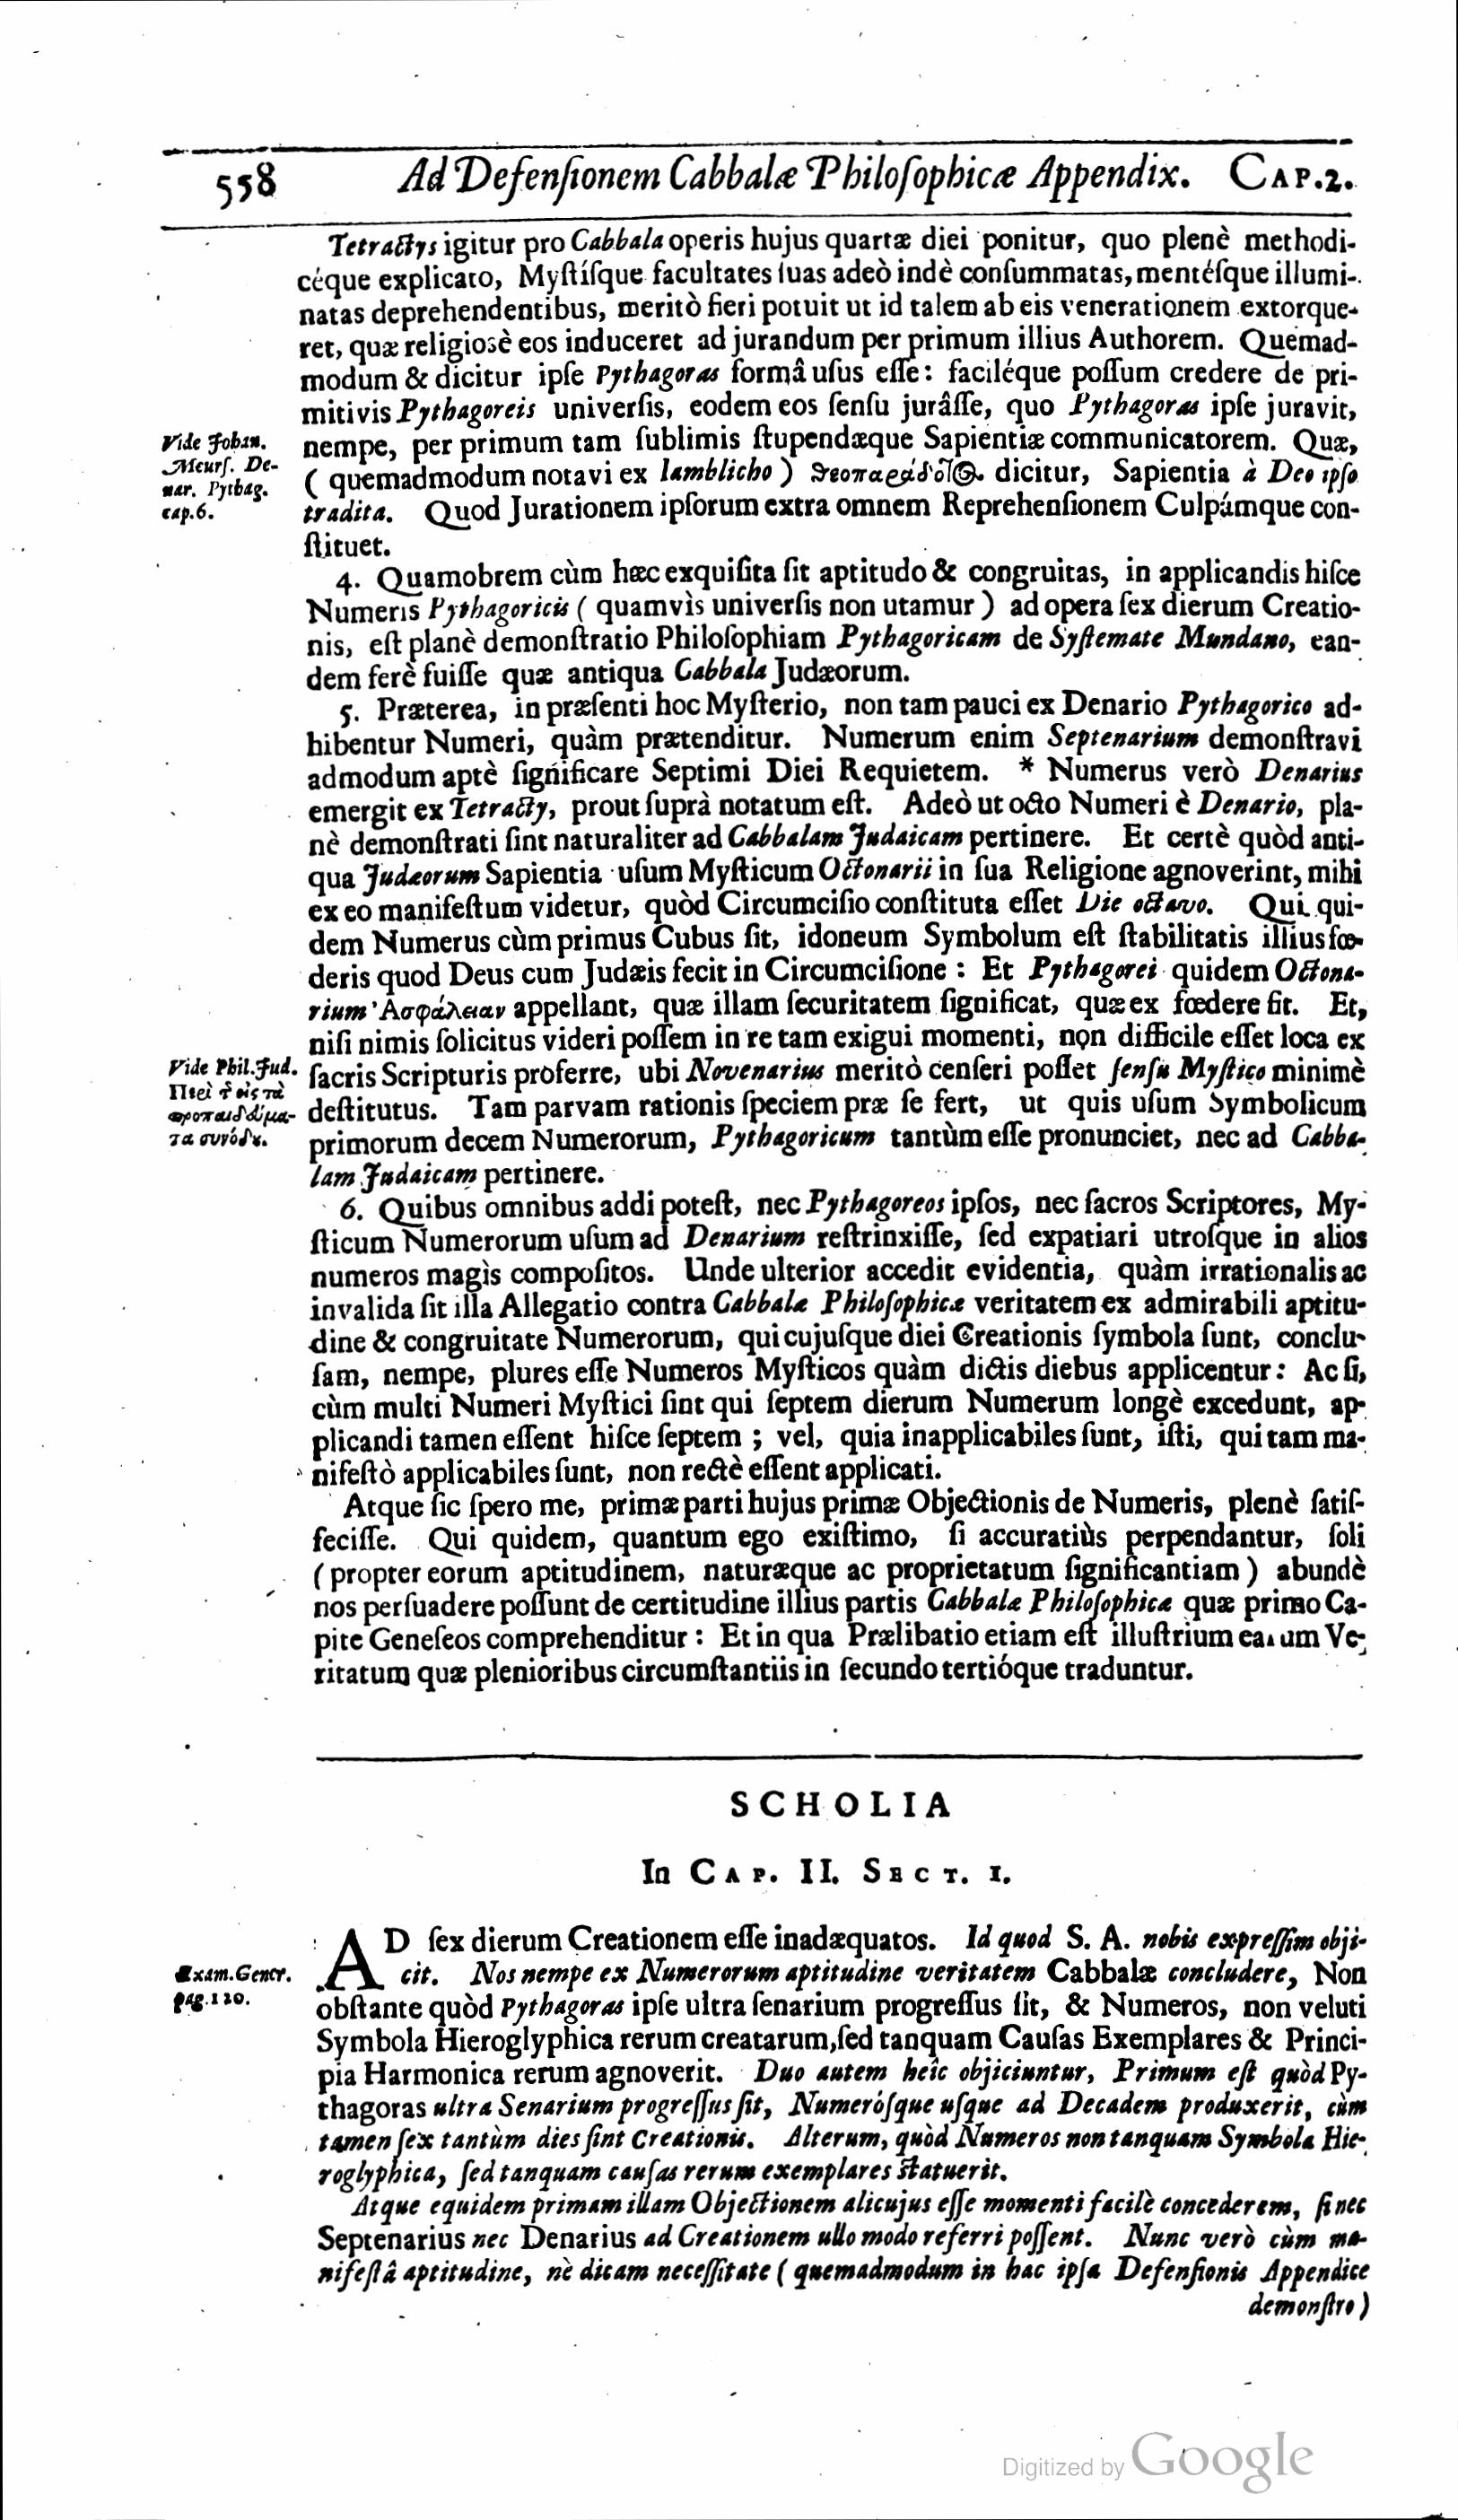catchword: (1246, 2287, 1371, 2324)
full_p: (304, 691, 1369, 1198), (293, 220, 1364, 559), (304, 1187, 1369, 1489), (314, 1923, 1371, 2187), (309, 1486, 1369, 1690), (293, 554, 1368, 698), (639, 1855, 1014, 1888), (727, 1788, 951, 1822)
header: (397, 151, 1356, 208)
initial_l: (314, 1926, 387, 1994)
page_num: (213, 156, 279, 213)
print_marg: (165, 1052, 297, 1149), (156, 429, 281, 526), (172, 1965, 295, 2013)
top_p: (316, 2189, 1371, 2294)
